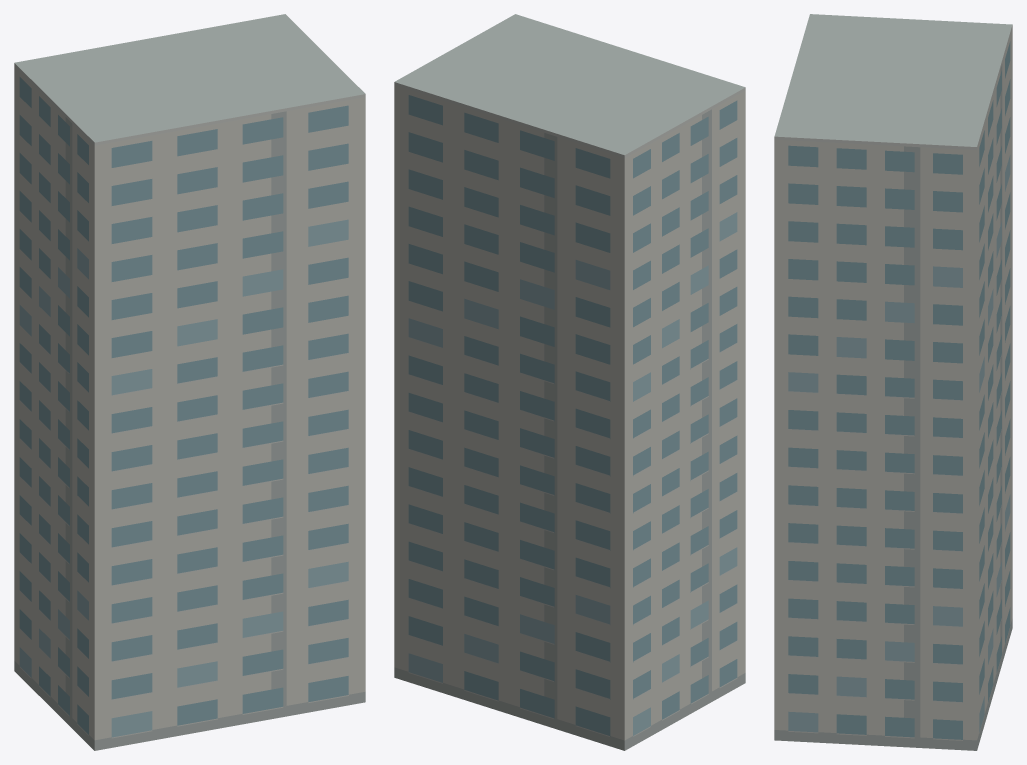
The model's file is residential-68d58879-fe86-463f-8288-5f71a9e81bcd.glb.
3 renders of one model, left to right at view 1: azimuth 30°, elevation 25°; view 2: azimuth 150°, elevation 25°; view 3: azimuth 270°, elevation 25°, orthographic. The views are drawn at different scales.
Visible parts, largest first — view 1: residential-68d58879-fe86-463f-8288-5f71a9e81bcd.tmp; view 2: residential-68d58879-fe86-463f-8288-5f71a9e81bcd.tmp; view 3: residential-68d58879-fe86-463f-8288-5f71a9e81bcd.tmp.
Boxes of the visible parts, x1=… form: residential-68d58879-fe86-463f-8288-5f71a9e81bcd.tmp: x1=14, y1=14, x2=365, y2=750; residential-68d58879-fe86-463f-8288-5f71a9e81bcd.tmp: x1=394, y1=14, x2=745, y2=750; residential-68d58879-fe86-463f-8288-5f71a9e81bcd.tmp: x1=774, y1=14, x2=1012, y2=750.
Bounding box in the file's own units: 22.71 × 48 × 17.17.
